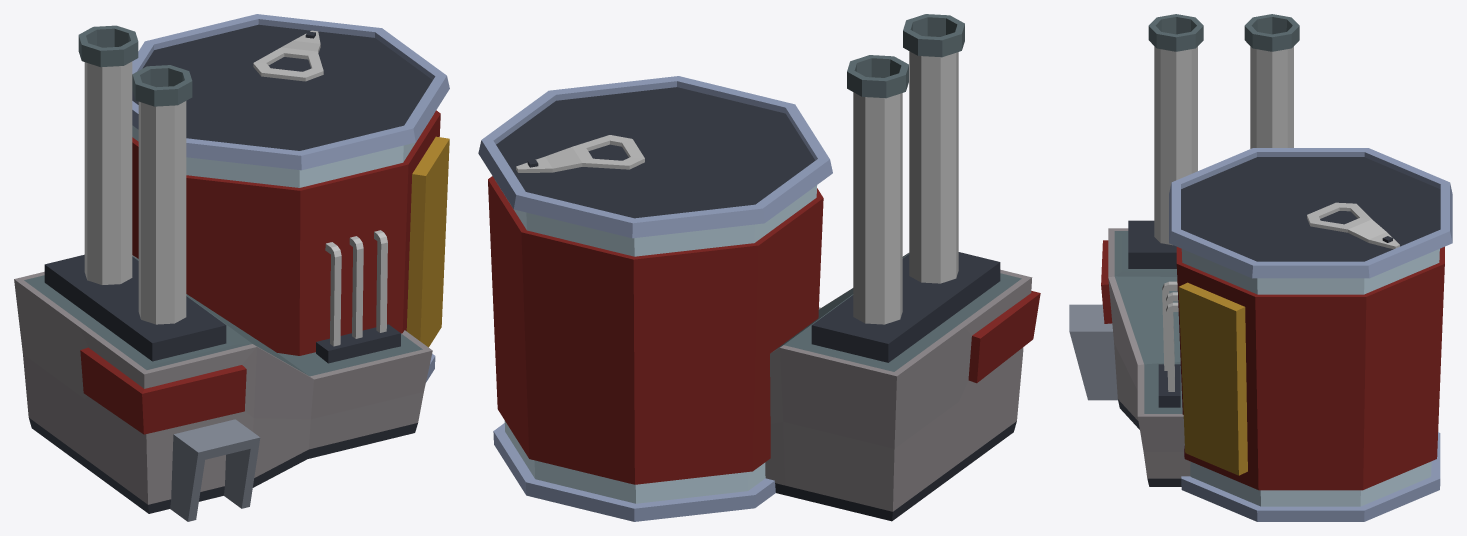
File: guantou.fbx
3 views of the same model, side by side, from view 1: azimuth 30°, elevation 25°; view 2: azimuth 150°, elevation 25°; view 3: azimuth 270°, elevation 25° (orthographic). The views are drawn at different scales.
Parts seen in each view (by area): view 1: 立方体.003; view 2: 立方体.003; view 3: 立方体.003.
Boxes of the visible parts, x1=… form: 立方体.003: x1=14, y1=14, x2=449, y2=521; 立方体.003: x1=478, y1=14, x2=1040, y2=521; 立方体.003: x1=1069, y1=14, x2=1452, y2=521.
Size of the model in its own units: 289 by 283 by 274.
